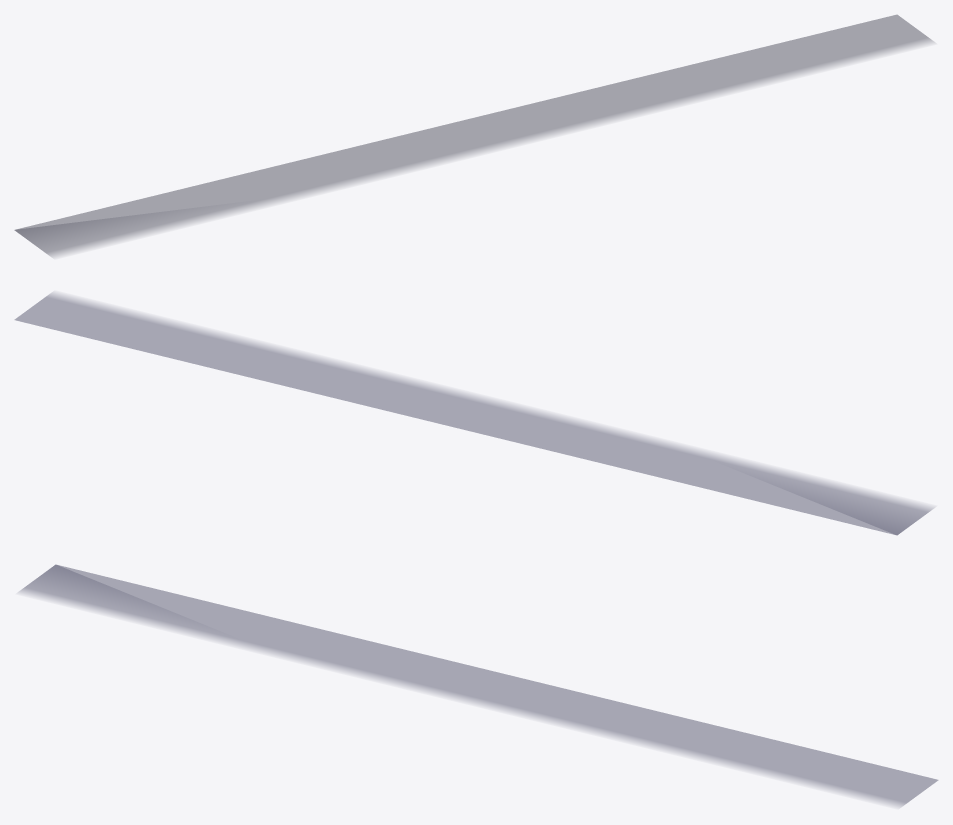
3 renders of one model, top to bottom at view 1: azimuth 30°, elevation 25°; view 2: azimuth 150°, elevation 25°; view 3: azimuth 330°, elevation 25°, orthographic.
Parts seen in each view (by area): view 1: Joint_0_Object_0; view 2: Joint_0_Object_0; view 3: Joint_0_Object_0.
Boxes of the visible parts, <box> form: Joint_0_Object_0: <box>14,15,933,256</box>; Joint_0_Object_0: <box>15,293,933,535</box>; Joint_0_Object_0: <box>19,564,937,806</box>.
Bounding box in the file's own units: 6000 × 0 × 492.
1 material, 1 textured.
